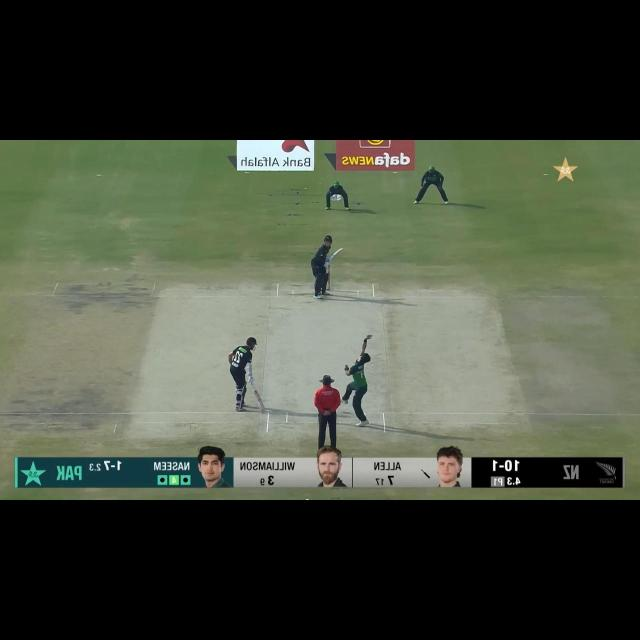bat: (254, 390, 266, 412), (330, 248, 344, 260)
toe: (260, 407, 266, 412), (339, 248, 344, 251)
